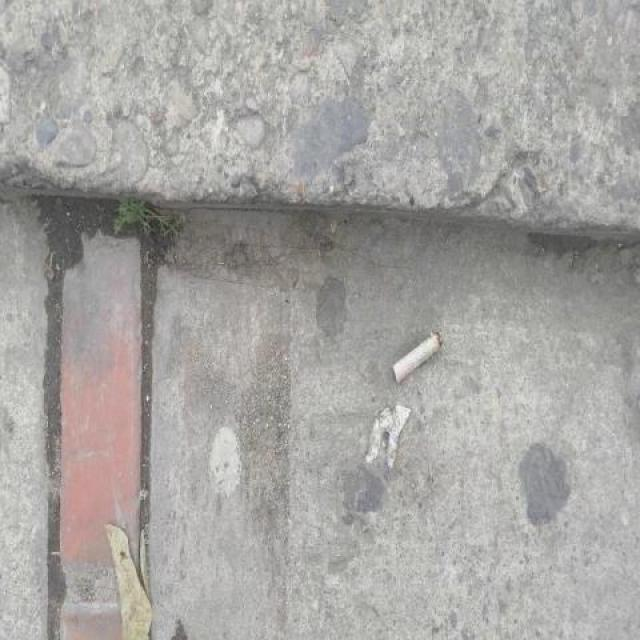non-organic waste: (388, 327, 448, 389)
